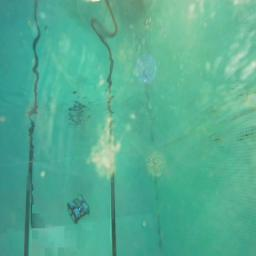front: (67, 194, 89, 224)
